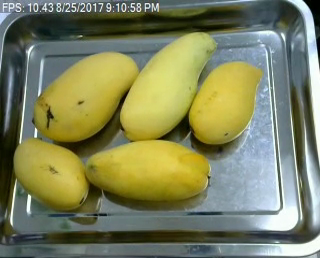Mango: (114, 30, 216, 141), (31, 49, 140, 142), (86, 139, 213, 204), (187, 61, 259, 145), (14, 138, 90, 215)
